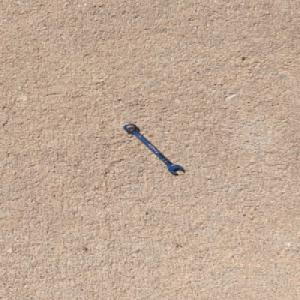Wrench: (122, 122, 184, 174)
